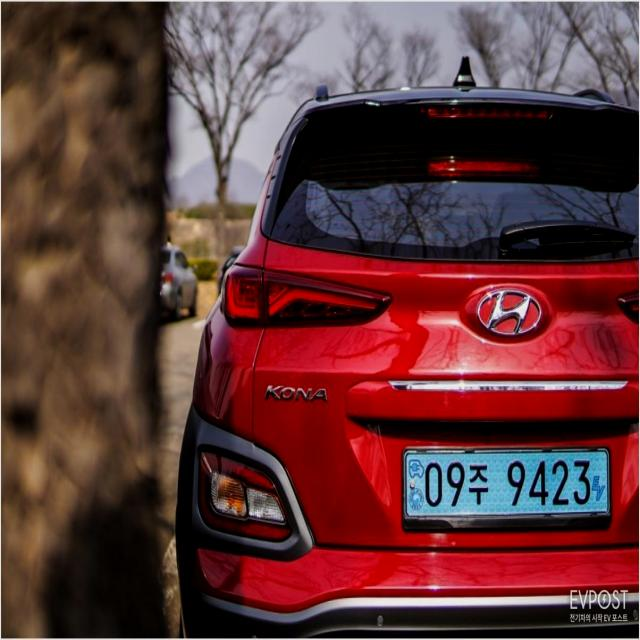EV_plate: (405, 445, 613, 536)
car: (169, 53, 640, 640)
